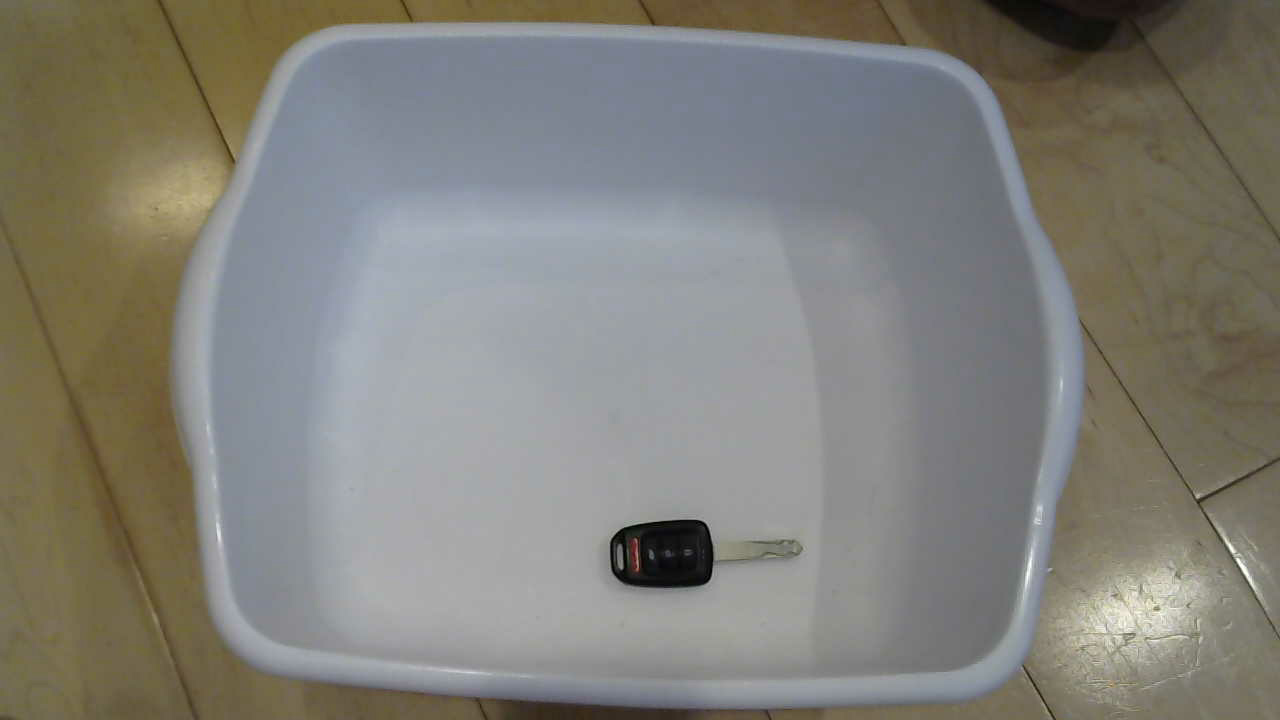key: (596, 509, 822, 605)
